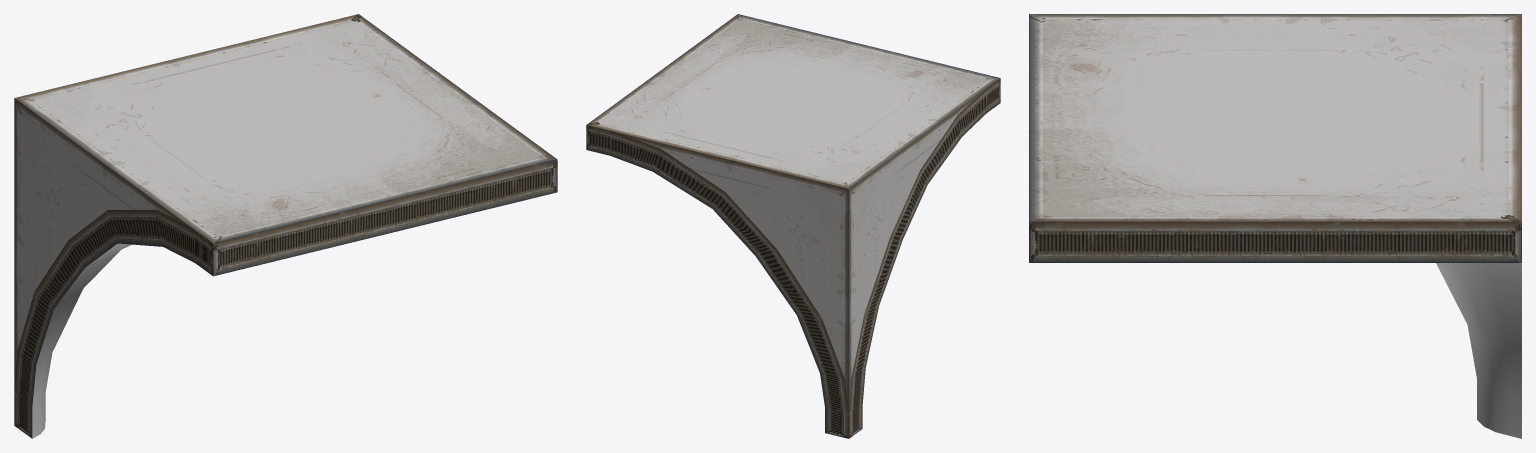
Rendered from scifi_wall_top2_curve5_2.FBX.
3 views of the same model, side by side, from view 1: azimuth 30°, elevation 25°; view 2: azimuth 150°, elevation 25°; view 3: azimuth 270°, elevation 25° (orthographic). The views are drawn at different scales.
Visible parts, largest first — view 1: Plane351; view 2: Plane351; view 3: Plane351.
Boxes of the visible parts, x1,y1,x2,y2 form: Plane351: (14,14,557,438); Plane351: (586,14,1000,438); Plane351: (1029,14,1521,438).
Bounding box in the file's own units: 279 × 254 × 279.
